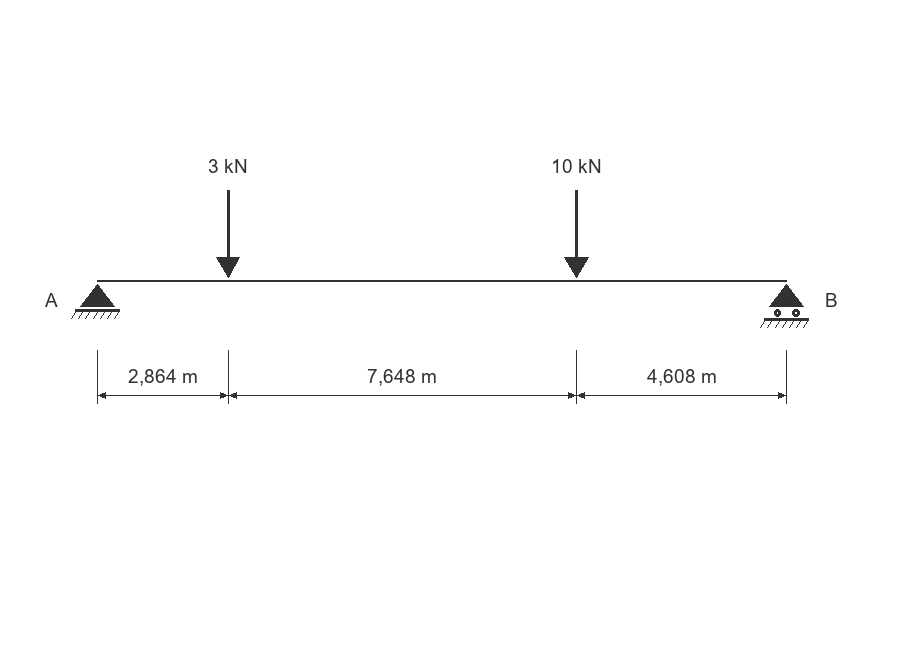pin_support: (71, 284, 120, 319)
point_load: (564, 190, 589, 278), (216, 190, 240, 278)
roller_support: (760, 284, 809, 328)
